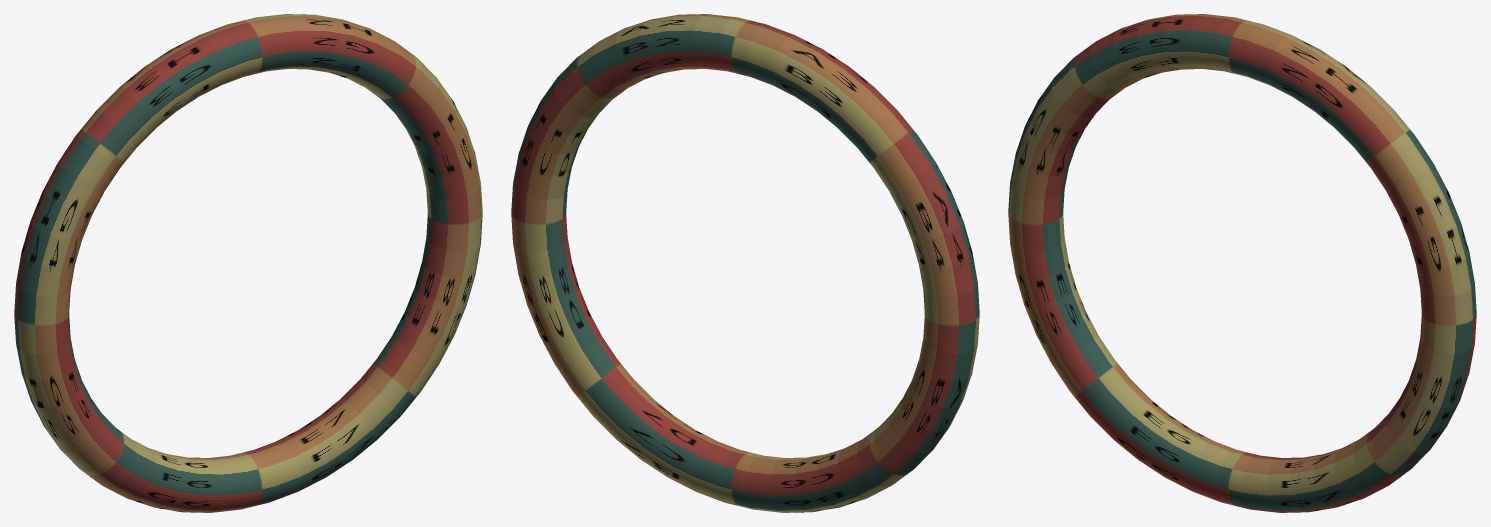
Rendered from texture_torus_R18_r2.glb.
3 views of the same model, side by side, from view 1: azimuth 30°, elevation 25°; view 2: azimuth 150°, elevation 25°; view 3: azimuth 330°, elevation 25° (orthographic).
Visible parts, largest first — view 1: world; view 2: world; view 3: world.
Part boxes in pixels (x1,y1,x2,y2): world: (14, 14, 482, 512); world: (511, 14, 979, 512); world: (1008, 14, 1476, 512).
Bounding box in the file's own units: 24.53 × 24.48 × 2.53.
1 material, 1 textured.
